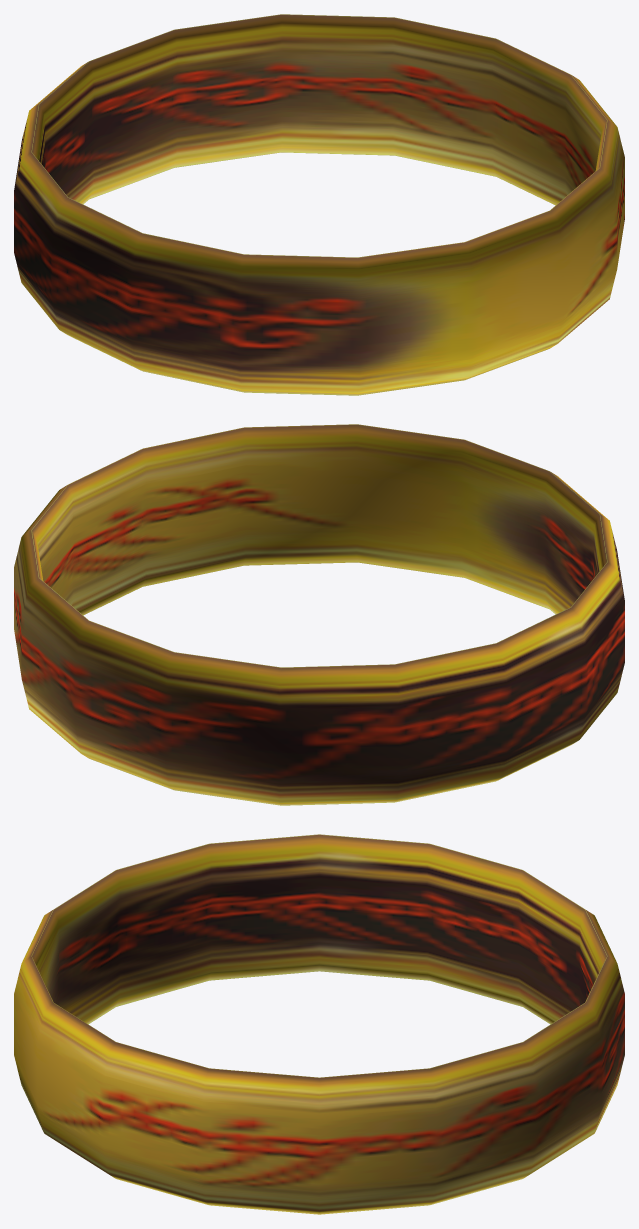
Rendered from lotrrotk.ico.obj.
3 renders of one model, top to bottom at view 1: azimuth 30°, elevation 25°; view 2: azimuth 150°, elevation 25°; view 3: azimuth 270°, elevation 25°, orthographic.
Size of the model in its own units: 3.97 by 0.9822 by 3.97.
1 material, 1 textured.
